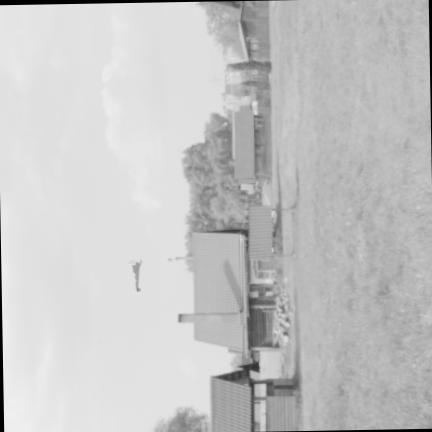Shahed: (126, 257, 142, 291)
